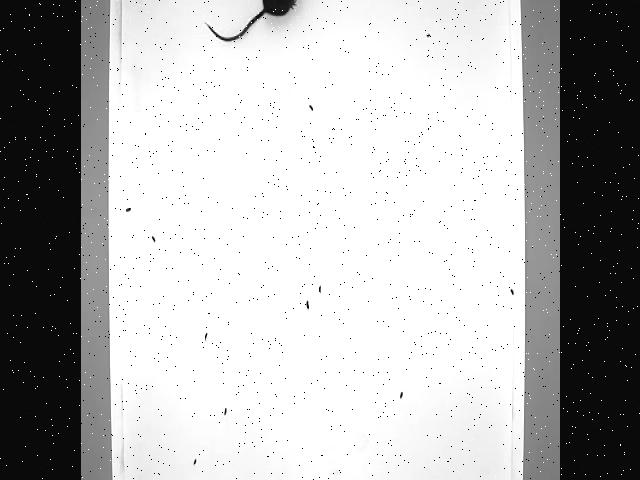Tikus: (201, 0, 307, 50)
